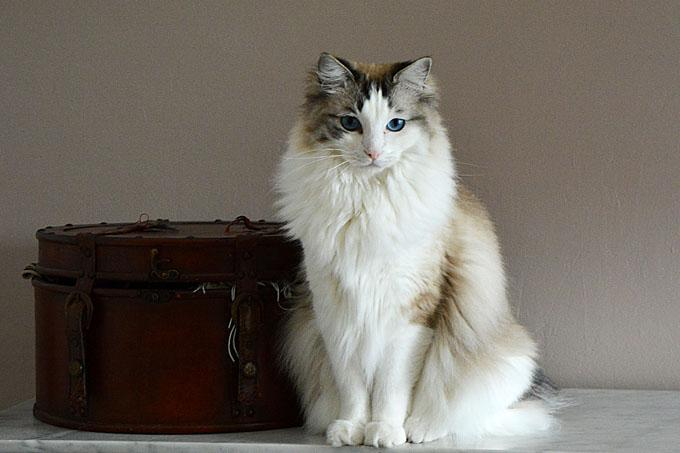ragdoll: (293, 31, 455, 190)
